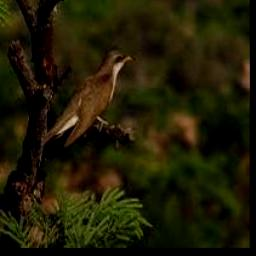Cuckoo: (41, 48, 132, 149)
